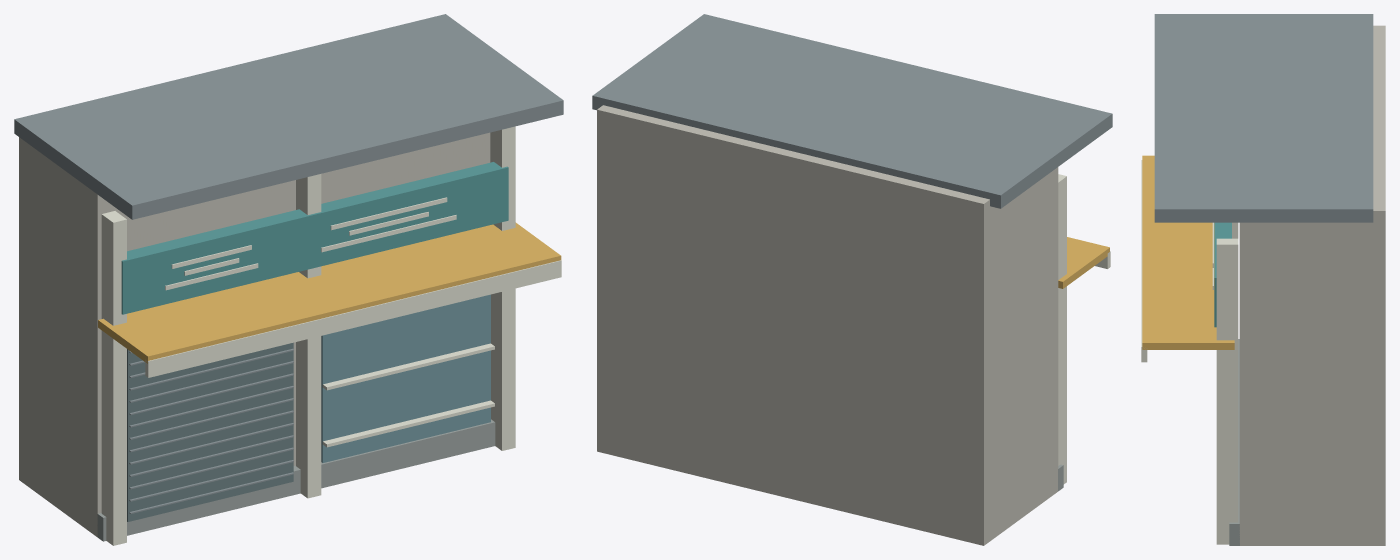
Rendered from shopfront_module.fbx.
3 renders of one model, left to right at view 1: azimuth 30°, elevation 25°; view 2: azimuth 150°, elevation 25°; view 3: azimuth 270°, elevation 25°, orthographic. The views are drawn at different scales.
Visible parts, largest first — view 1: shopfront_module__balcony_ledge, shopfront_module__body, shopfront_module__store_sign, shopfront_module__awning, shopfront_module__rollerdoor, shopfront_module__displaywindow, shopfront_module__shop_pier, shopfront_module__canopy_lip, shopfront_module__base, shopfront_module__shop_pier.002, shopfront_module__shop_pier.001, shopfront_module__display_shelf (+2 smaller); view 2: shopfront_module__body, shopfront_module__balcony_ledge, shopfront_module__shop_pier, shopfront_module__awning; view 3: shopfront_module__body, shopfront_module__balcony_ledge, shopfront_module__awning, shopfront_module__shop_pier.002, shopfront_module__base, shopfront_module__store_sign, shopfront_module__canopy_lip.
Boxes of the visible parts, bbox=[...] form: shopfront_module__balcony_ledge: bbox=[14, 14, 563, 219]; shopfront_module__body: bbox=[19, 132, 490, 536]; shopfront_module__store_sign: bbox=[121, 162, 508, 314]; shopfront_module__awning: bbox=[98, 222, 561, 363]; shopfront_module__rollerdoor: bbox=[127, 342, 293, 521]; shopfront_module__displaywindow: bbox=[321, 294, 490, 462]; shopfront_module__shop_pier: bbox=[101, 211, 126, 545]; shopfront_module__canopy_lip: bbox=[145, 260, 561, 377]; shopfront_module__base: bbox=[97, 419, 495, 541]; shopfront_module__shop_pier.002: bbox=[490, 126, 515, 450]; shopfront_module__shop_pier.001: bbox=[296, 174, 321, 498]; shopfront_module__display_shelf: bbox=[322, 400, 494, 447]; shopfront_module__body: bbox=[597, 105, 1058, 545]; shopfront_module__balcony_ledge: bbox=[592, 14, 1112, 208]; shopfront_module__shop_pier: bbox=[1058, 174, 1066, 484]; shopfront_module__awning: bbox=[1058, 237, 1109, 288]; shopfront_module__body: bbox=[1239, 25, 1385, 545]; shopfront_module__balcony_ledge: bbox=[1154, 14, 1373, 222]; shopfront_module__awning: bbox=[1142, 155, 1234, 349]; shopfront_module__shop_pier.002: bbox=[1216, 238, 1238, 544]; shopfront_module__base: bbox=[1229, 339, 1239, 545]; shopfront_module__store_sign: bbox=[1214, 222, 1231, 327]; shopfront_module__canopy_lip: bbox=[1141, 160, 1147, 362].
Bounding box in the file's own units: 950 × 775 × 502.
